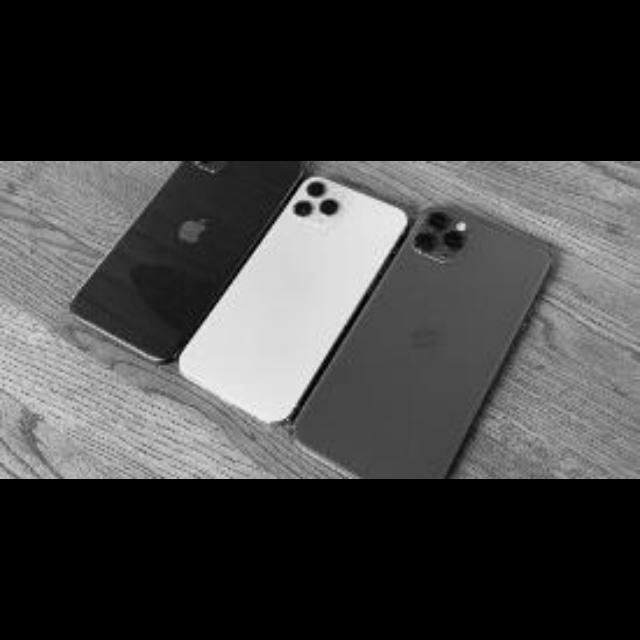fake: (280, 187, 600, 478)
